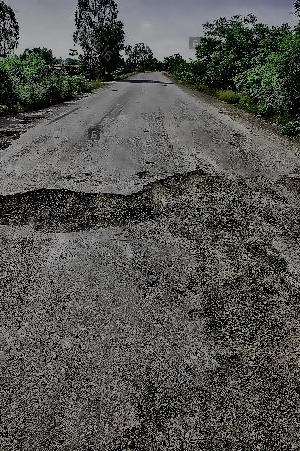pothole: (1, 186, 129, 235), (140, 165, 216, 226)
